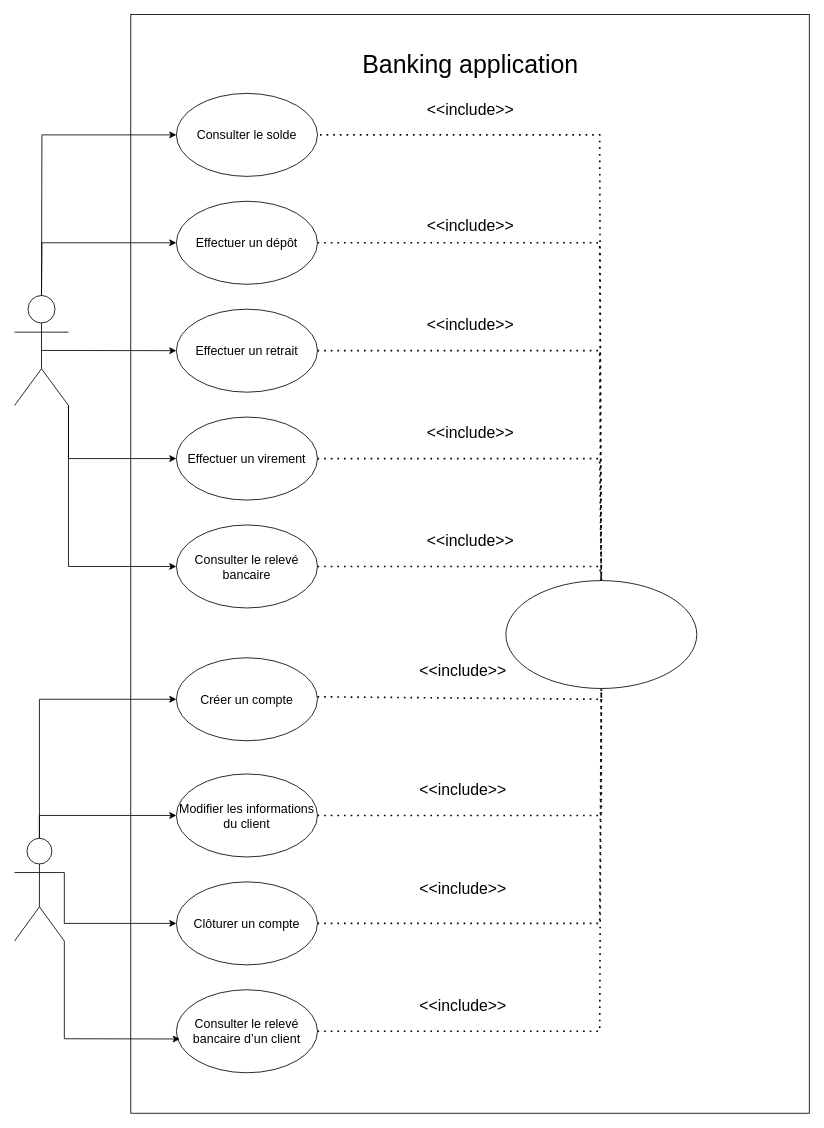
This 824x1128 diagram has some shape labels left out. Here are the shapes that lost their labels. From the top down, the centre of each, then its label:
At (x=41, y=350): "Customer".
At (x=601, y=634): "authentification".
At (x=39, y=889): "Manager".
